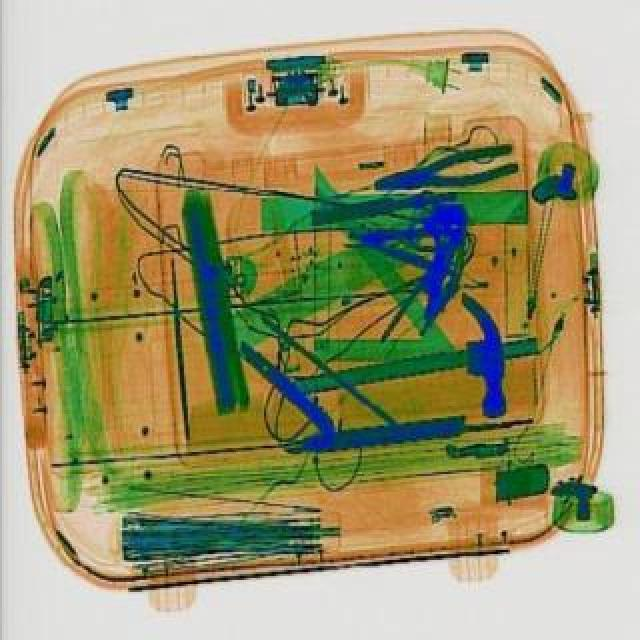wrench: (370, 138, 518, 198)
